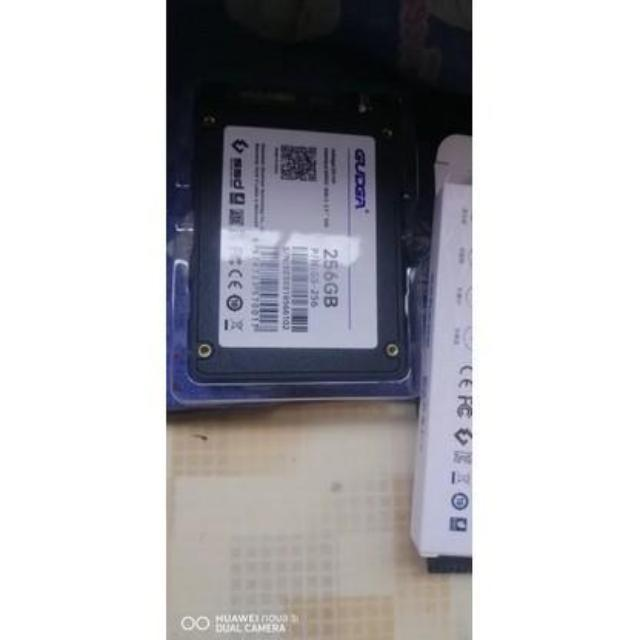DISK: (168, 75, 428, 387)
